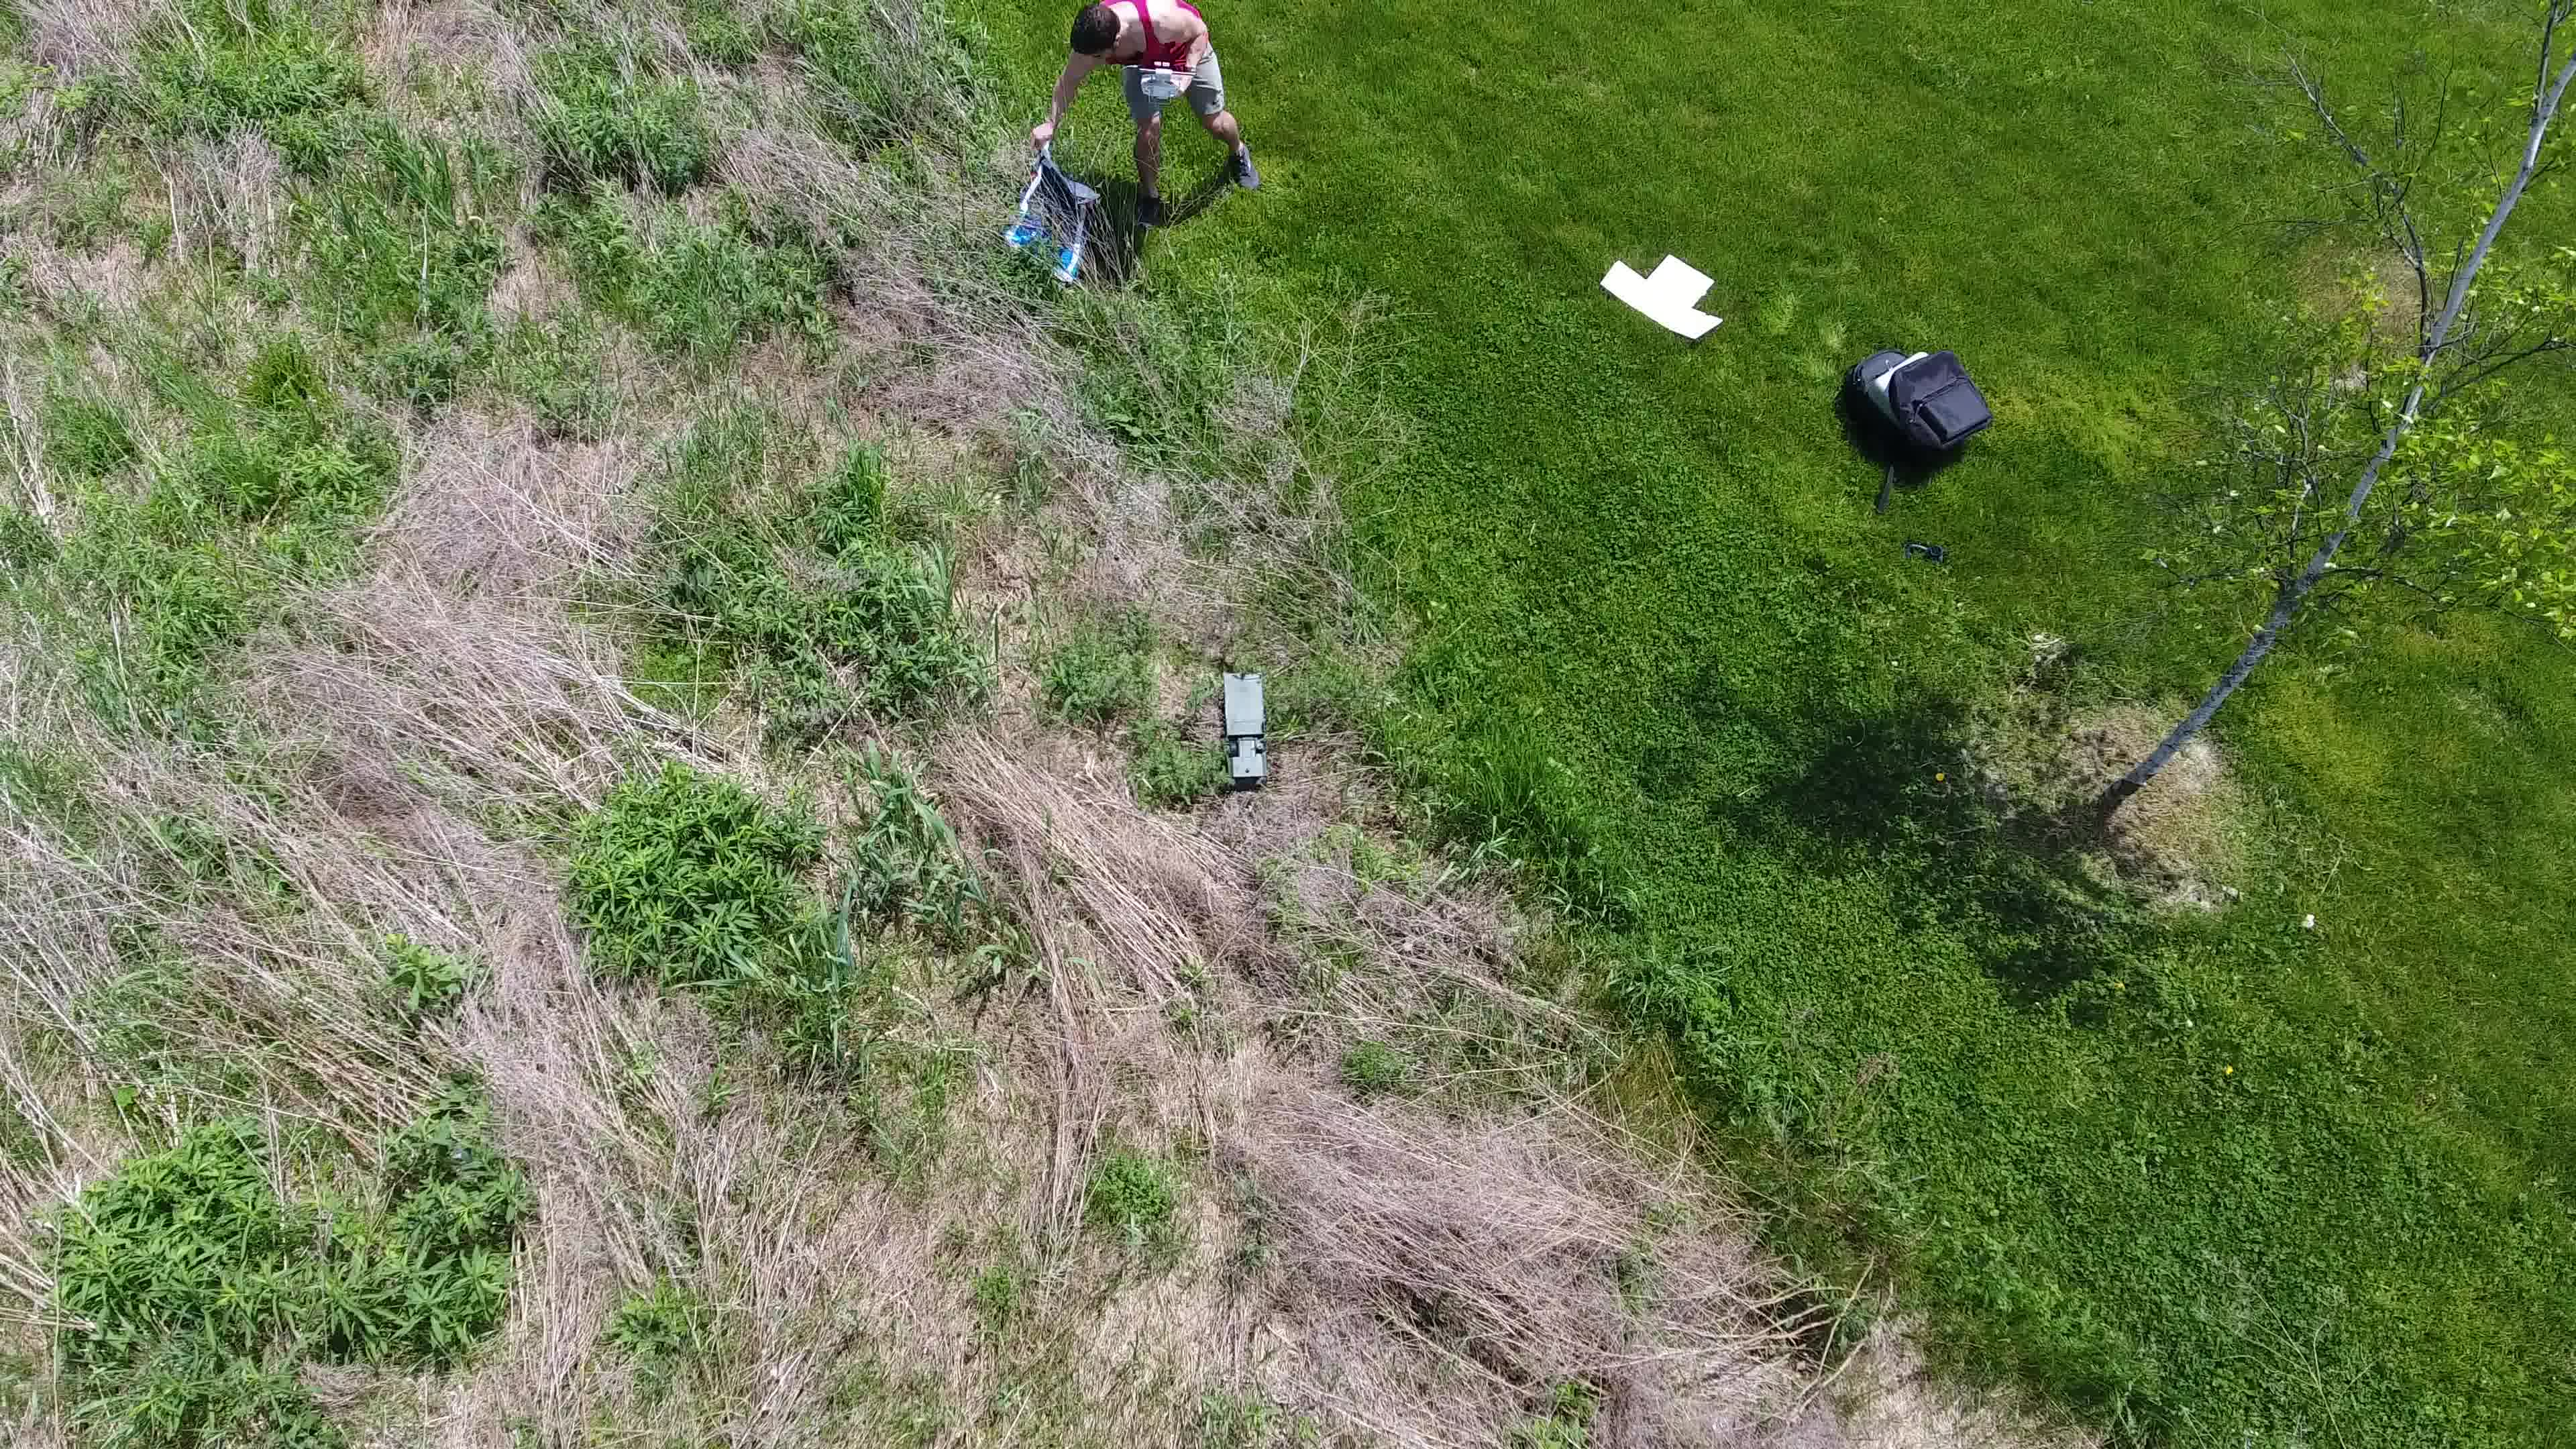transporter9: (1219, 667, 1272, 786)
